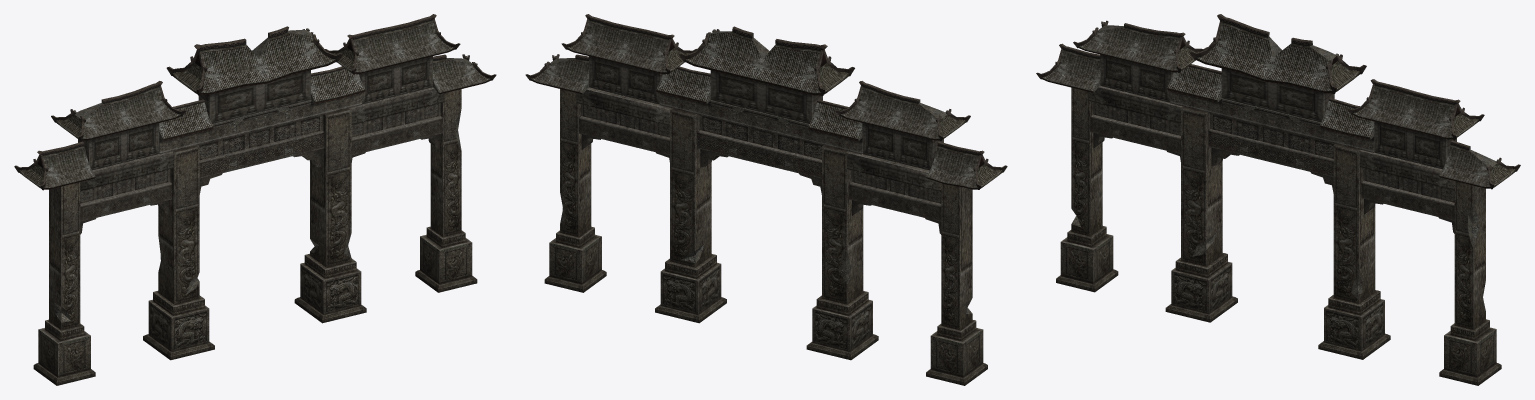
Rendered from ep-034-stonedoor.fbx.
The picture shows the model from 3 angles, left to right: view 1: azimuth 30°, elevation 25°; view 2: azimuth 150°, elevation 25°; view 3: azimuth 330°, elevation 25°; orthographic projection.
Visible parts, largest first — view 1: ep-034-stonedoor-02; view 2: ep-034-stonedoor-02; view 3: ep-034-stonedoor-02.
Boxes of the visible parts, x1=… form: ep-034-stonedoor-02: x1=14, y1=14, x2=496, y2=385; ep-034-stonedoor-02: x1=525, y1=14, x2=1007, y2=385; ep-034-stonedoor-02: x1=1036, y1=14, x2=1520, y2=385.
Bounding box in the file's own units: 29.7 × 18.41 × 3.51.
